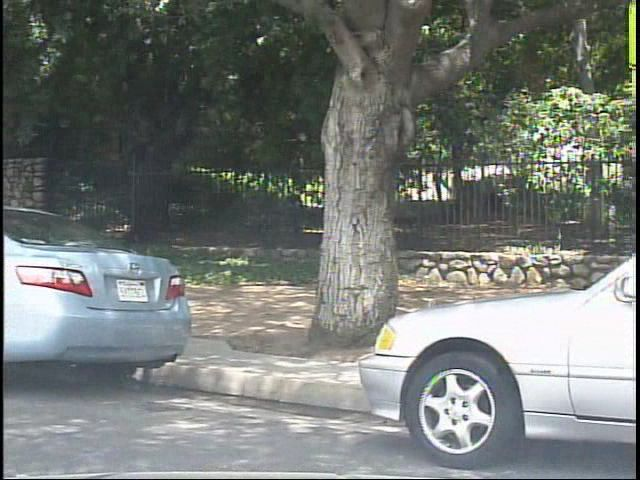car: (351, 231, 640, 453), (1, 203, 205, 371)
